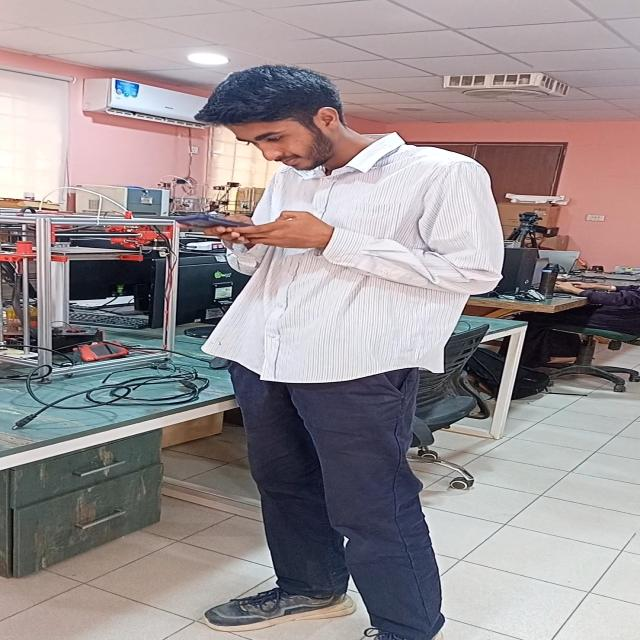dress: (162, 132, 508, 638)
